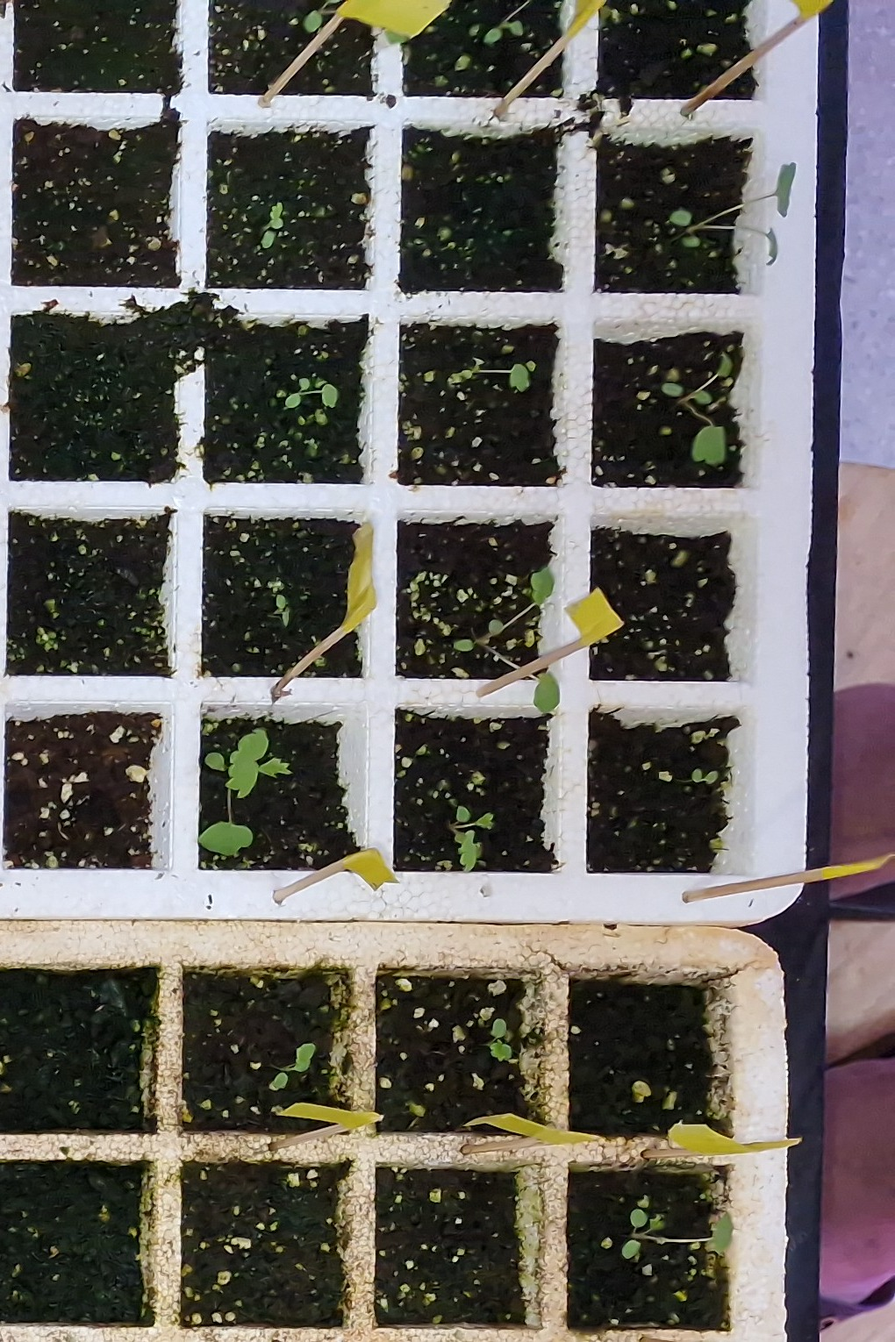Folha: (707, 1212, 734, 1252), (296, 1044, 314, 1067), (490, 1044, 511, 1061), (622, 1241, 641, 1259), (631, 1209, 647, 1228), (650, 1214, 668, 1230), (492, 1019, 507, 1037), (274, 1073, 288, 1088)
Germinacao: (622, 1210, 734, 1259), (272, 1043, 316, 1087), (479, 1019, 511, 1062)
